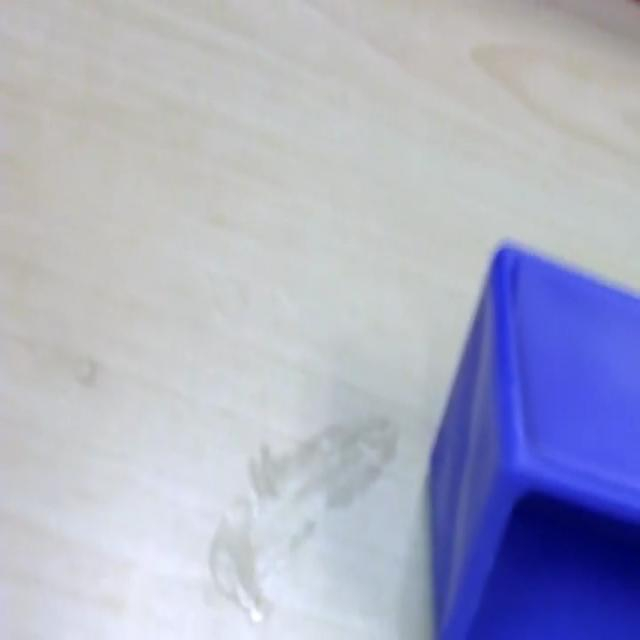blue_block: (426, 236, 638, 637)
